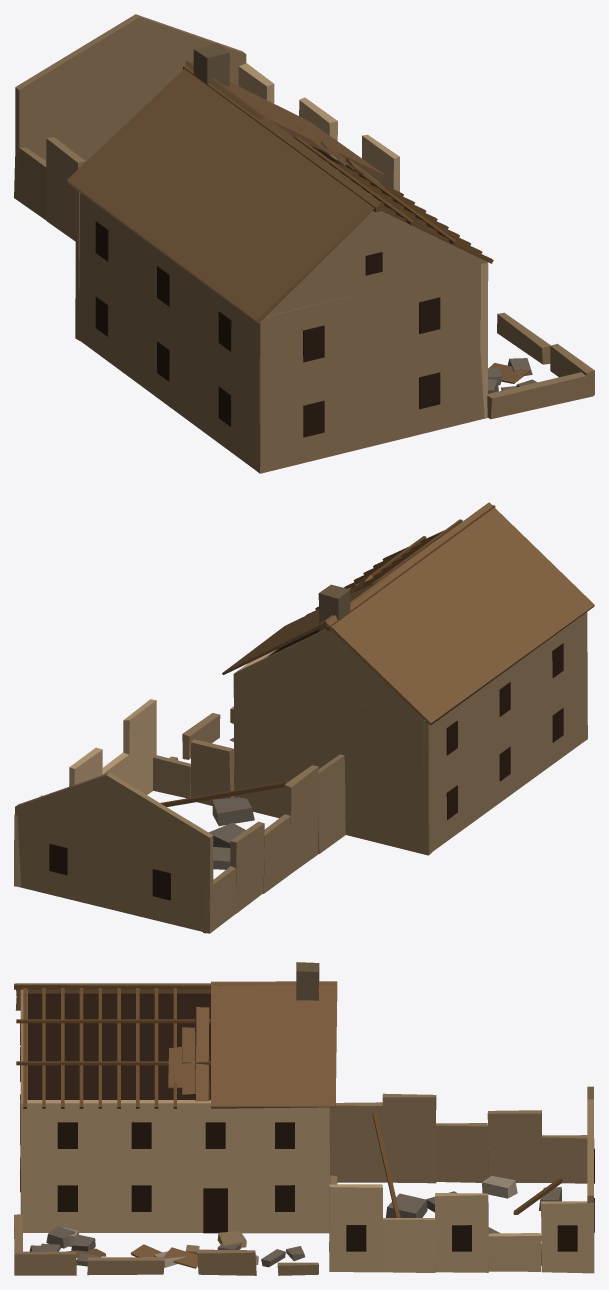
Rendered from farmhouse.glb.
3 renders of one model, top to bottom at view 1: azimuth 30°, elevation 25°; view 2: azimuth 150°, elevation 25°; view 3: azimuth 270°, elevation 25°, orthographic. The views are drawn at different scales.
Parts seen in each view (by area): view 1: farmhouse; view 2: farmhouse; view 3: farmhouse.
Part boxes in pixels (x1=…): farmhouse: x1=14, y1=14, x2=594, y2=473; farmhouse: x1=14, y1=502, x2=594, y2=933; farmhouse: x1=14, y1=962, x2=594, y2=1275.
Size of the model in its own units: 14.6 by 11.17 by 25.94.
